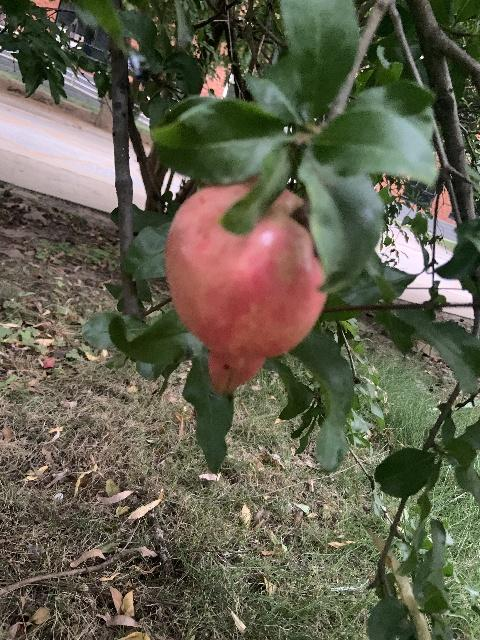ripe: (163, 177, 327, 396)
